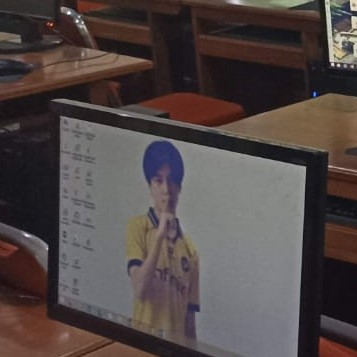monitor: (44, 98, 327, 352), (0, 0, 64, 53), (318, 0, 357, 78), (0, 0, 61, 24)
